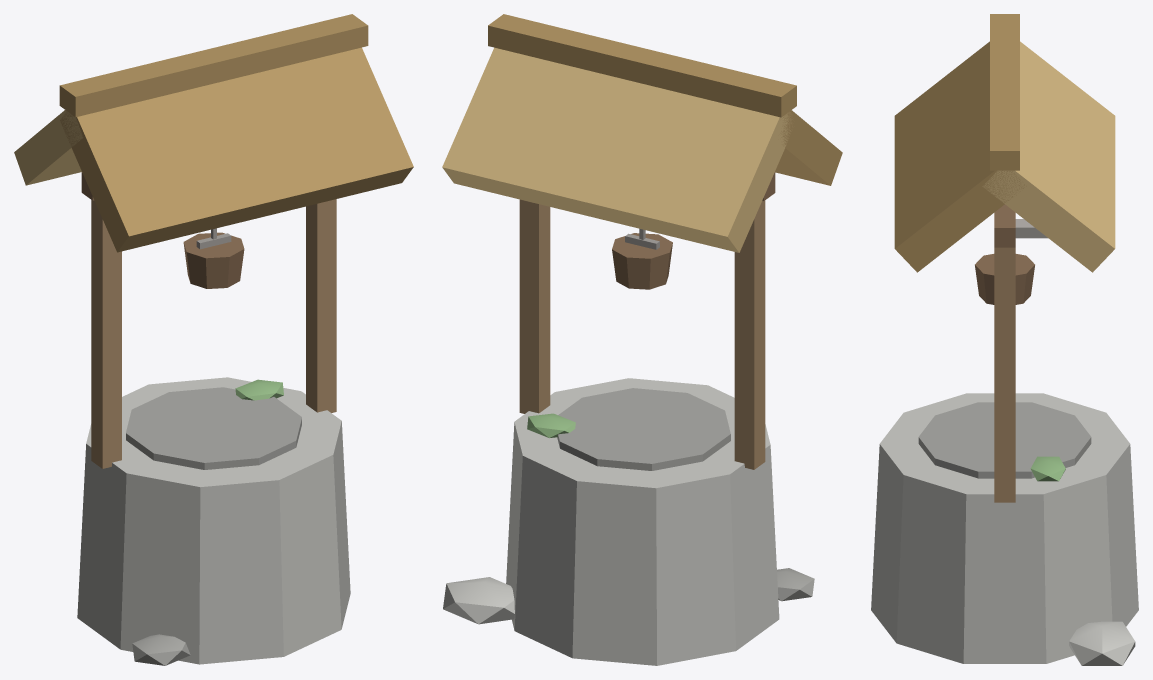
Rendered from village_well.glb.
3 views of the same model, side by side, from view 1: azimuth 30°, elevation 25°; view 2: azimuth 150°, elevation 25°; view 3: azimuth 270°, elevation 25° (orthographic). The views are drawn at different scales.
Visible parts, largest first — view 1: village_well; view 2: village_well; view 3: village_well.
Part boxes in pixels (left/top/right/bottom): village_well: left=14, top=14, right=413, bottom=665; village_well: left=442, top=14, right=842, bottom=665; village_well: left=871, top=14, right=1138, bottom=665.
Bounding box in the file's own units: 1.5 × 2.7 × 1.24.
